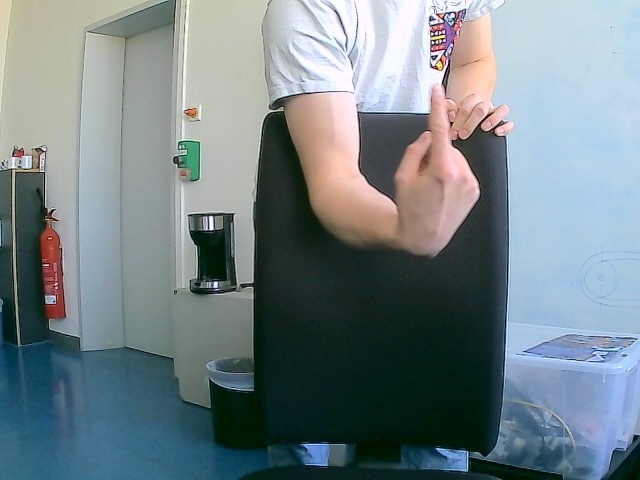no_gesture: (433, 90, 520, 142)
up: (392, 83, 484, 258)
